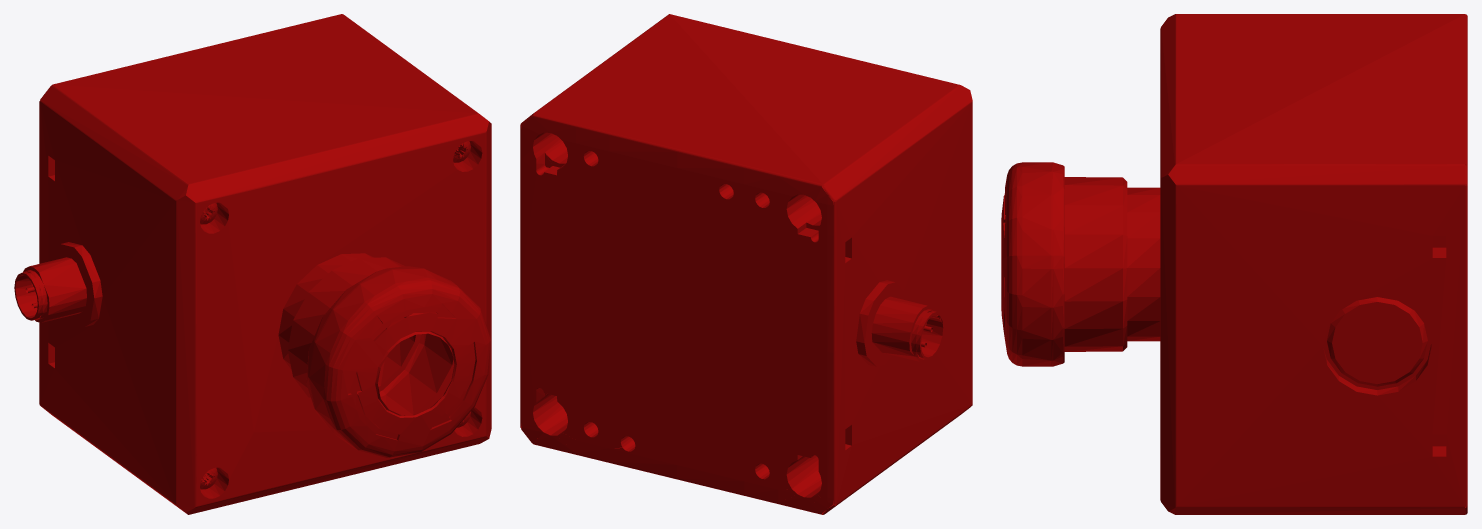
The picture shows the model from 3 angles, left to right: view 1: azimuth 30°, elevation 25°; view 2: azimuth 150°, elevation 25°; view 3: azimuth 270°, elevation 25°; orthographic projection. The views are drawn at different scales.
Visible parts, largest first — view 1: Mesh; view 2: Mesh; view 3: Mesh.
Boxes of the visible parts, x1=… form: Mesh: x1=14, y1=14, x2=491, y2=514; Mesh: x1=520, y1=14, x2=972, y2=514; Mesh: x1=1001, y1=14, x2=1467, y2=514.
Bounding box in the file's own units: 88.6 × 75.6 × 91.08.
